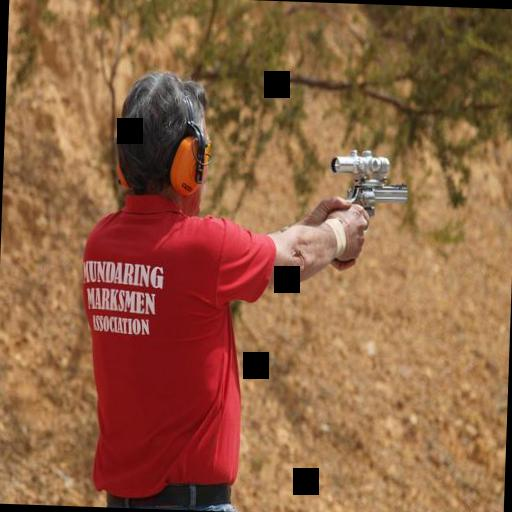Handgun: (320, 142, 413, 214)
